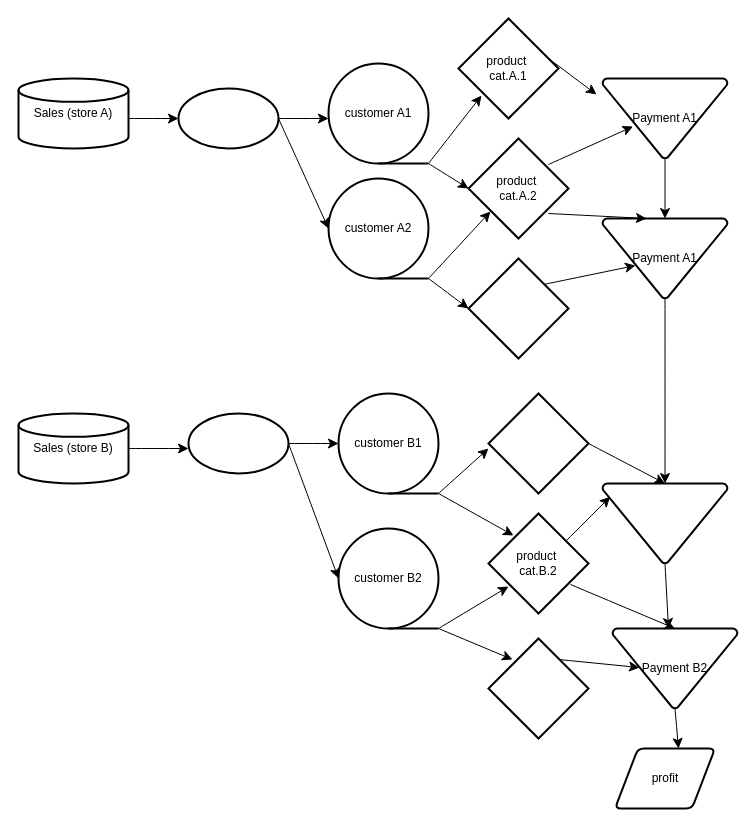
Some shapes in this 755 by 826 pixel diagram are drawn without their labels. Here are the shapes that lost their labels. From the top down, the centre of each, then its label:
At point (228, 118): "Employee A1".
At point (518, 308): "product cat.A.3".
At point (238, 443): "Employee B1".
At point (538, 443): "product cat.B.1".
At point (664, 523): "Payment B1".
At point (538, 688): "product cat.B.3".
